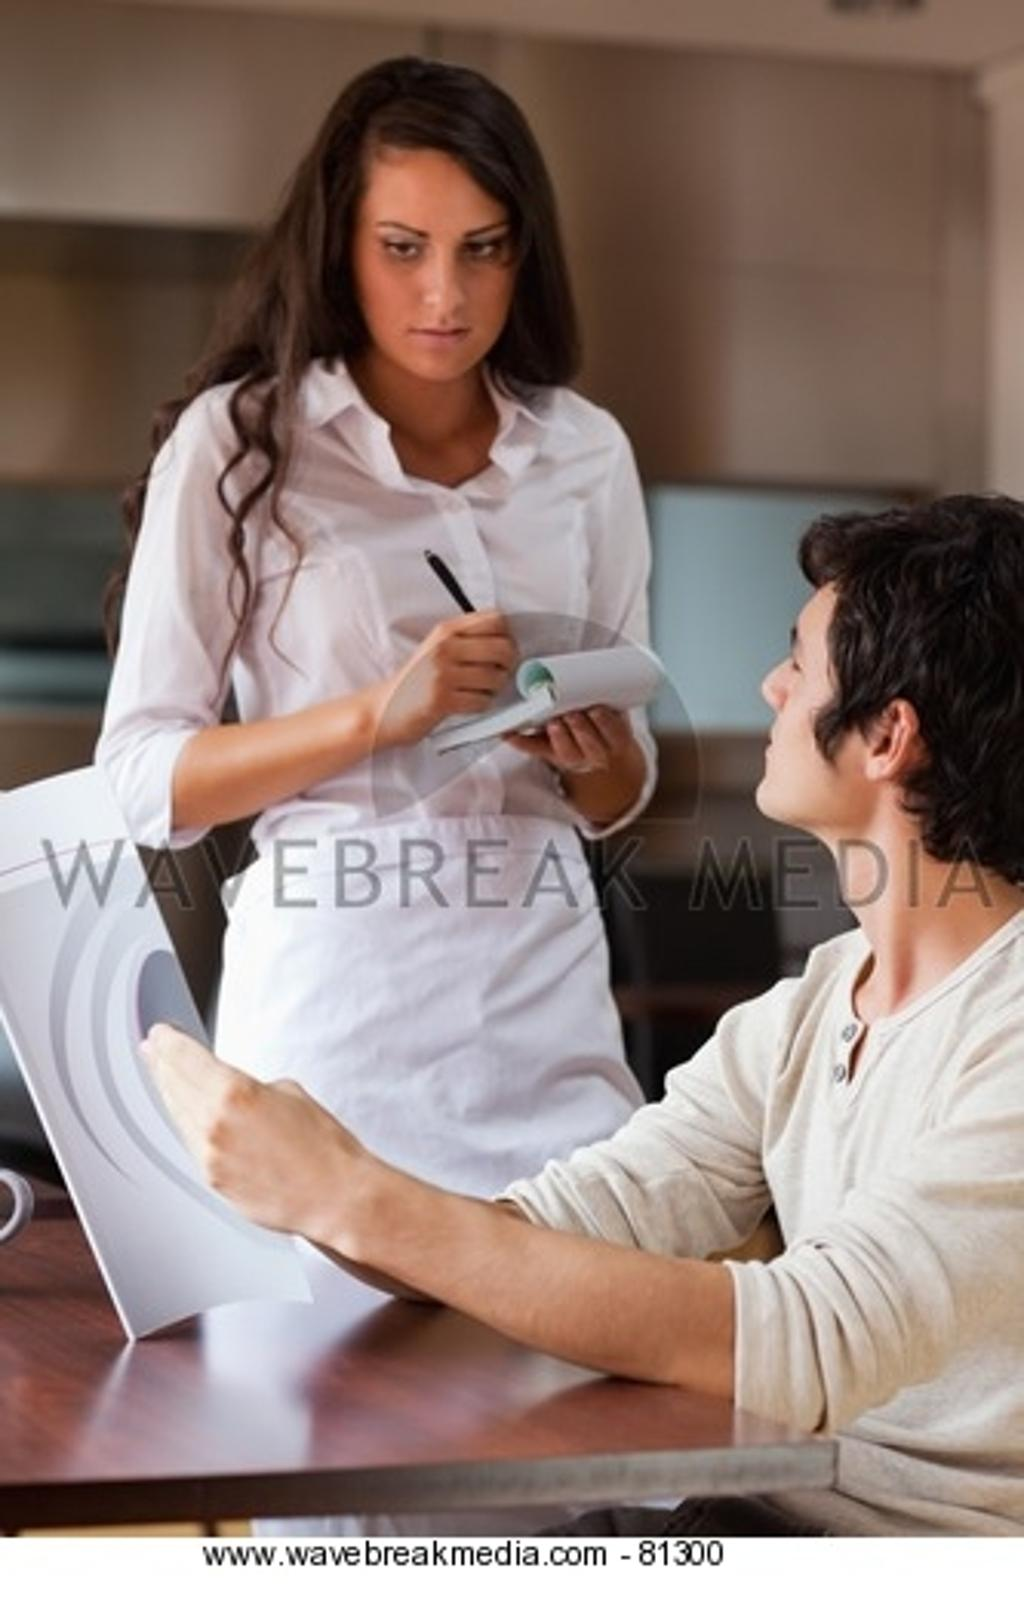face: (343, 134, 518, 381), (743, 574, 918, 818)
